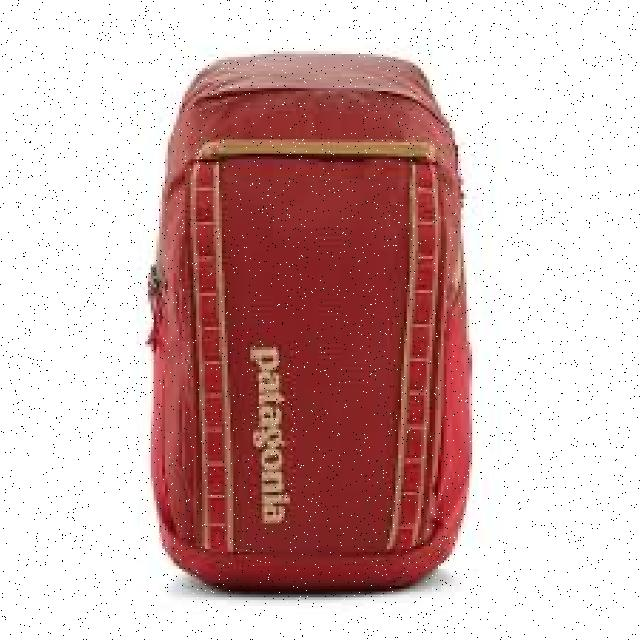backpack: (145, 48, 472, 592)
